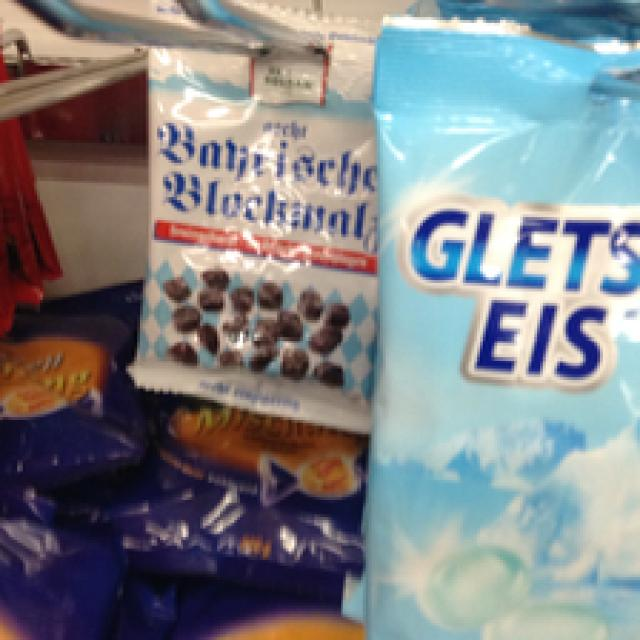groceries: (369, 20, 637, 631), (143, 0, 377, 423)
